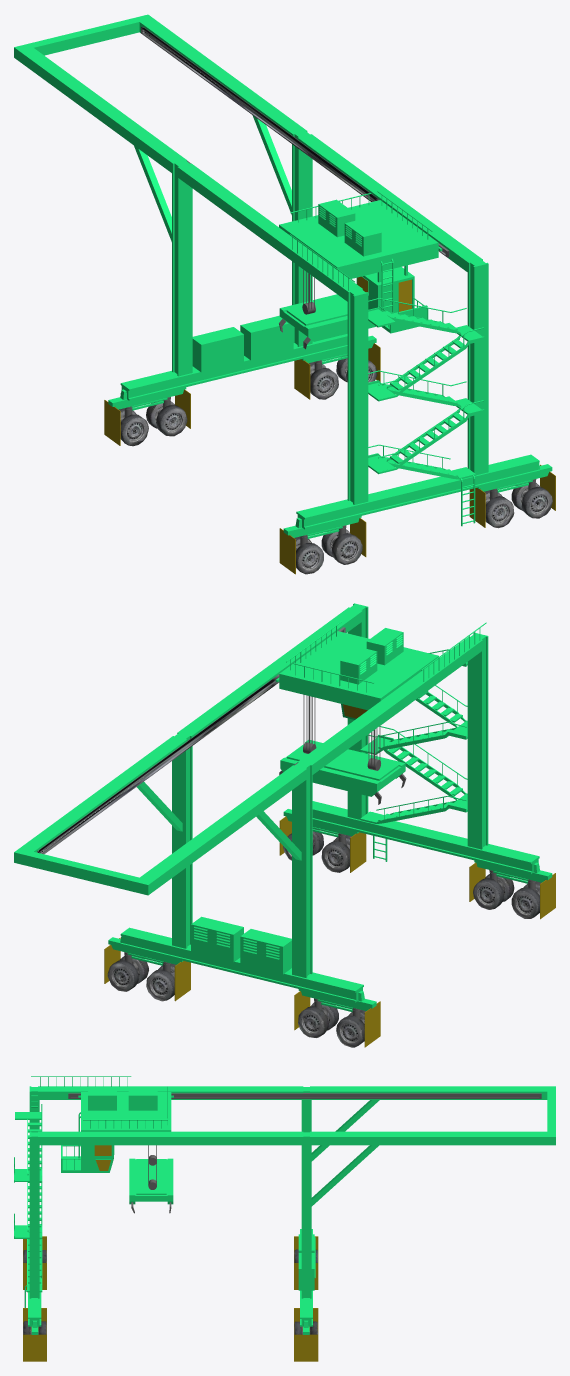
Rendered from crane_harbour.glb.
The picture shows the model from 3 angles, top to bottom: view 1: azimuth 30°, elevation 25°; view 2: azimuth 150°, elevation 25°; view 3: azimuth 270°, elevation 25°; orthographic projection. The views are drawn at different scales.
Parts seen in each view (by area): view 1: Harbour Crane_0; view 2: Harbour Crane_0; view 3: Harbour Crane_0.
Boxes of the visible parts, <box> form: Harbour Crane_0: <box>14,14,555,574</box>; Harbour Crane_0: <box>14,603,555,1047</box>; Harbour Crane_0: <box>14,1076,555,1361</box>.
Bounding box in the file's own units: 8.97 × 9.22 × 20.62.
Materials: 4 (1 with a texture image).
